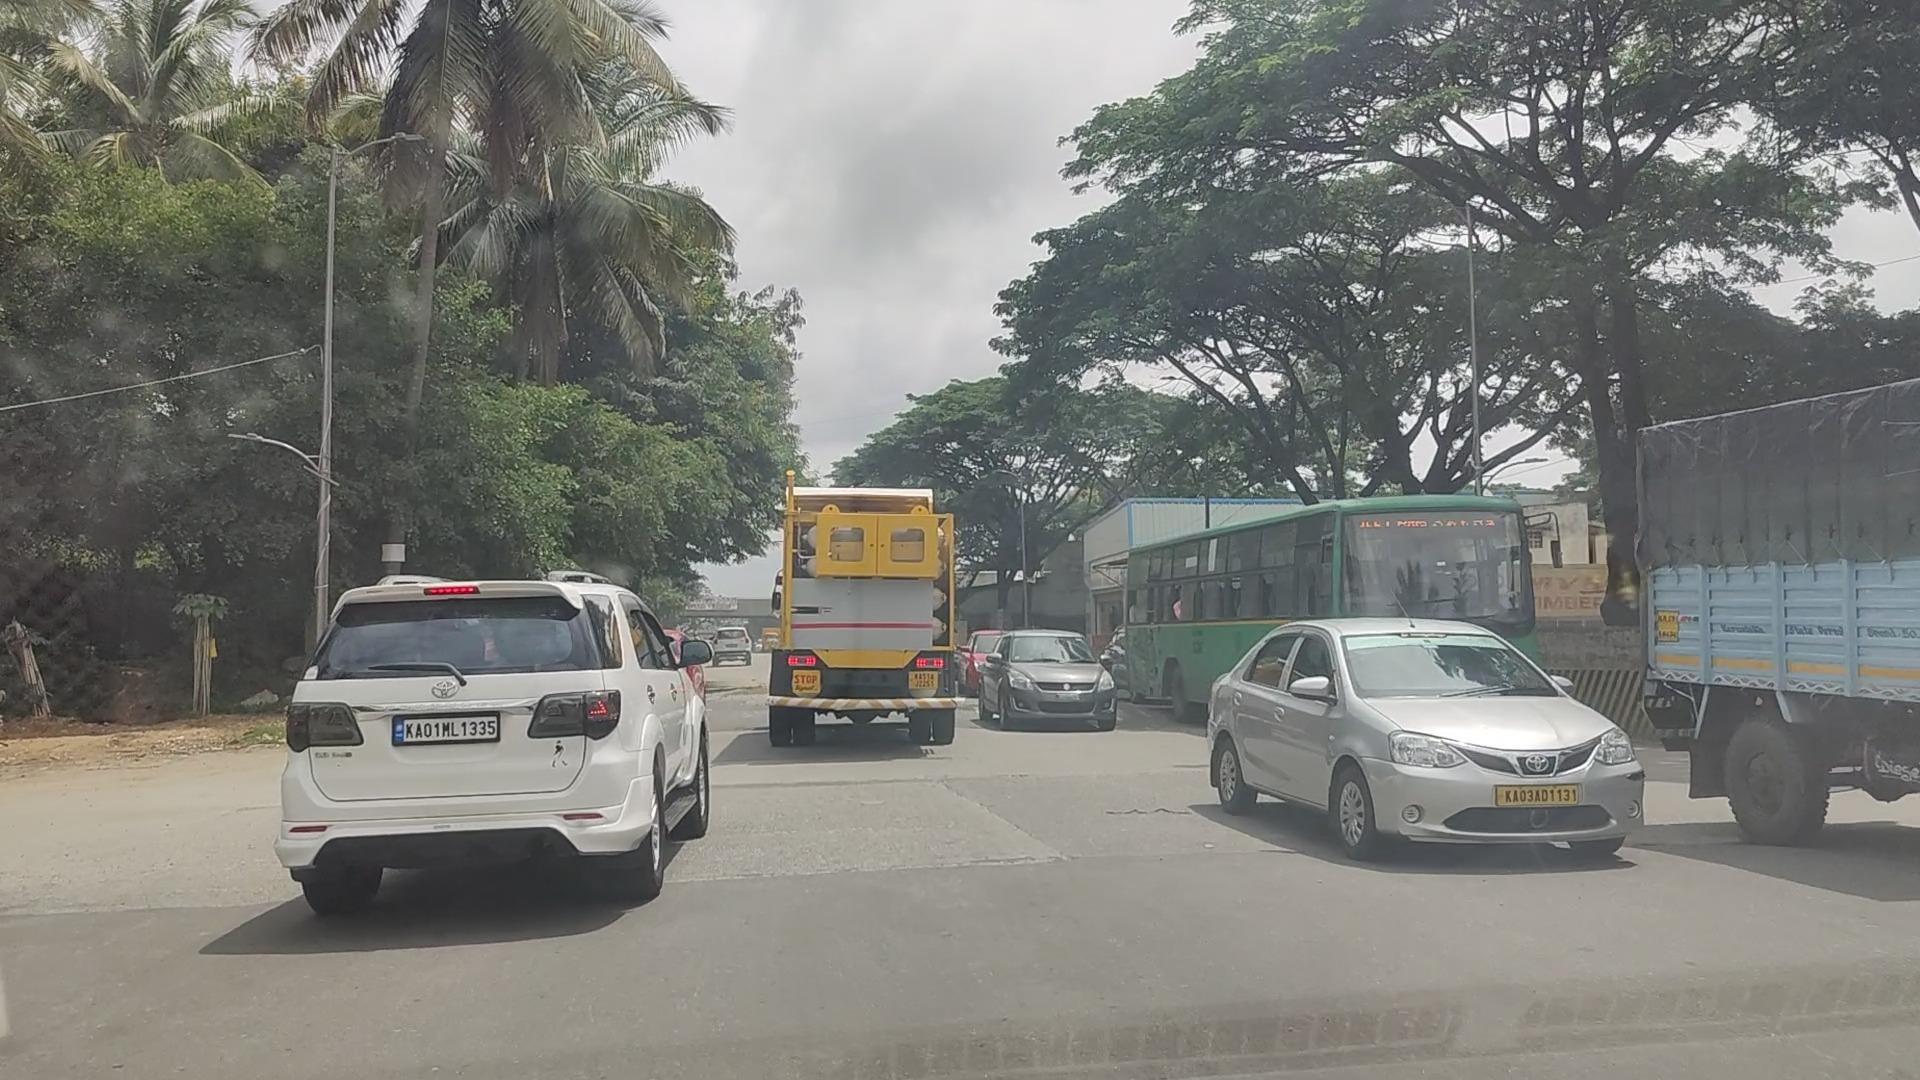HMV: (773, 493, 953, 731)
LMV: (277, 584, 686, 885)
RoadDamages: (729, 836, 1091, 898), (3, 870, 284, 924), (952, 766, 1017, 841)
